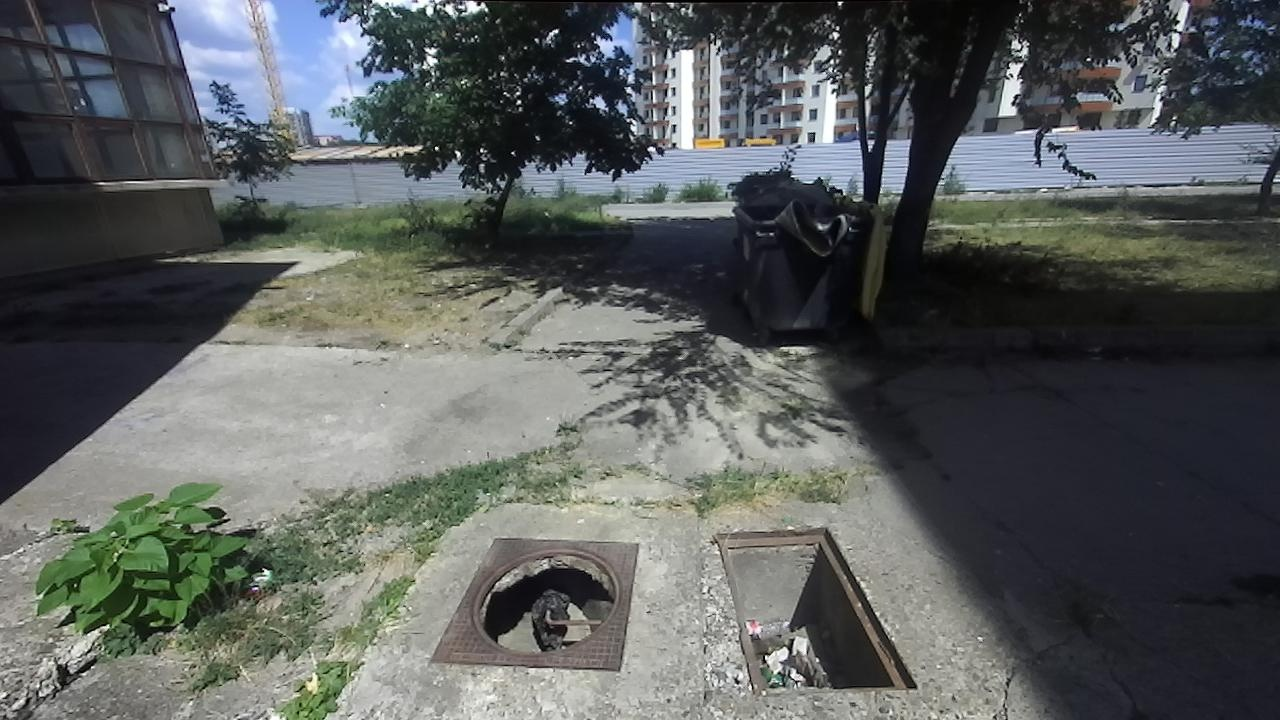drain: (708, 522, 920, 698), (462, 542, 622, 658)
